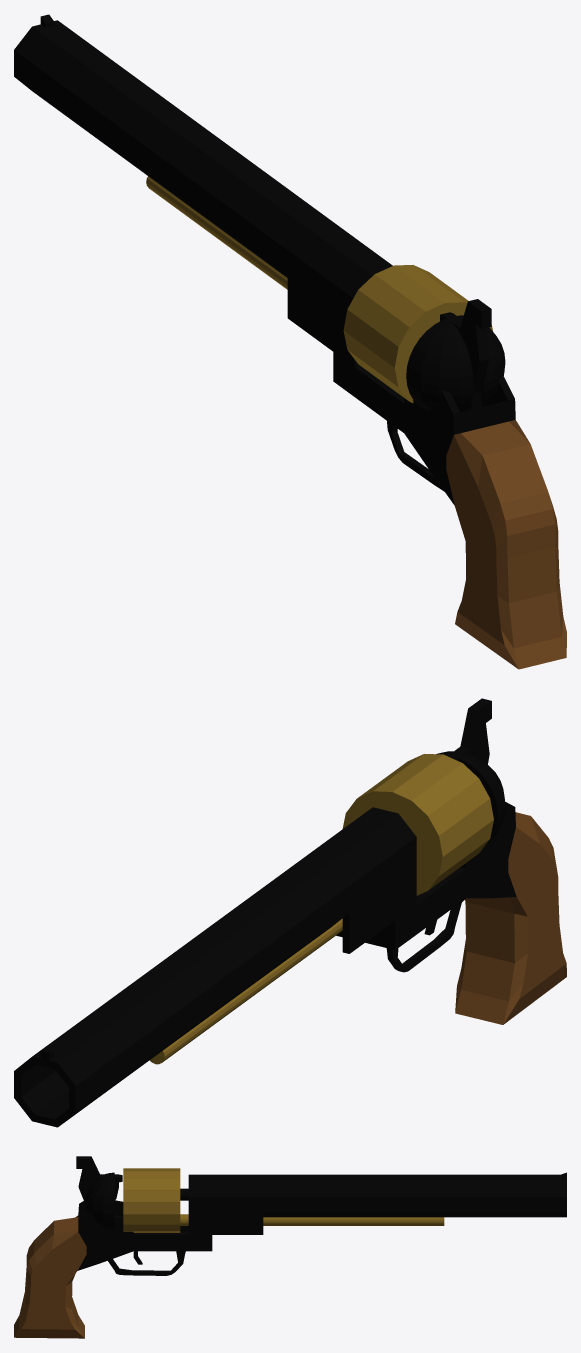
The model's file is caldwell revolver.fbx.
3 views of the same model, one above another, from view 1: azimuth 30°, elevation 25°; view 2: azimuth 150°, elevation 25°; view 3: azimuth 270°, elevation 25° (orthographic). The views are drawn at different scales.
Visible parts, largest first — view 1: revolver.003; view 2: revolver.003; view 3: revolver.003.
Part boxes in pixels (x1=…): revolver.003: x1=14, y1=14, x2=566, y2=669; revolver.003: x1=14, y1=698, x2=566, y2=1127; revolver.003: x1=14, y1=1156, x2=566, y2=1338.
Bounding box in the file's own units: 6.74 × 20.04 × 57.63.
